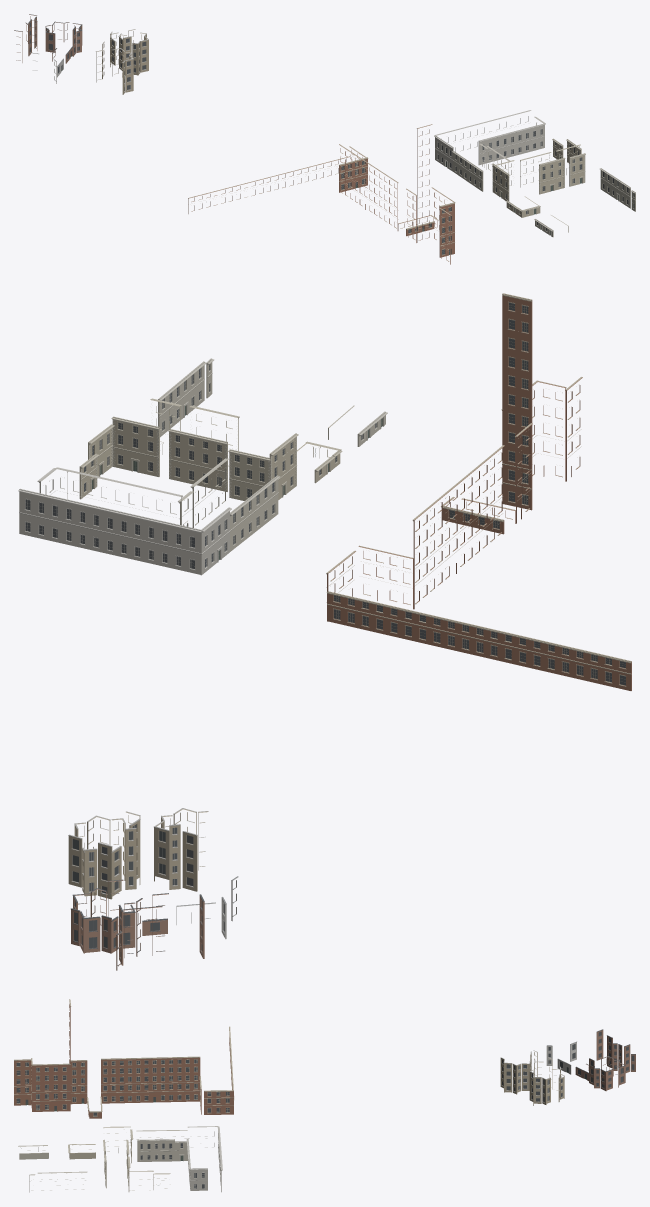
3 renders of one model, top to bottom at view 1: azimuth 30°, elevation 25°; view 2: azimuth 150°, elevation 25°; view 3: azimuth 270°, elevation 25°, orthographic. The views are drawn at different scales.
Parts seen in each view (by area): view 1: f:relation/1950099, f:way/139285982, f:way/98523436, f:way/780057385, f:way/87201084, f:way/98523431, f:way/780389017, f:way/780057383, f:way/780388997; view 2: f:relation/1950099, f:way/139285982, f:way/98523436, f:way/780057385, f:way/780389017, f:way/780057383, f:way/87201084, f:way/98523431, f:way/780388997; view 3: f:relation/1950099, f:way/87201084, f:way/780057383, f:way/780388997, f:way/780389017, f:way/780057385, f:way/139285982, f:way/98523436, f:way/780389013.
Part boxes in pixels (box(x1,y1,x2,y2)): f:relation/1950099: box(188, 124, 455, 264); f:way/139285982: box(434, 110, 545, 171); f:way/98523436: box(491, 138, 585, 201); f:way/780057385: box(110, 29, 148, 75); f:way/87201084: box(452, 143, 509, 191); f:way/98523431: box(599, 168, 635, 211); f:way/780389017: box(45, 21, 82, 63); f:way/780057383: box(96, 41, 133, 94); f:way/780388997: box(14, 14, 37, 62); f:relation/1950099: box(326, 293, 631, 690); f:way/139285982: box(18, 467, 231, 575); f:way/98523436: box(79, 398, 298, 500); f:way/780057385: box(68, 811, 140, 899); f:way/780389017: box(71, 879, 167, 953); f:way/780057383: box(154, 808, 208, 891); f:way/87201084: box(178, 458, 280, 551); f:way/98523431: box(158, 358, 214, 437); f:way/780388997: box(116, 893, 204, 970); f:relation/1950099: box(14, 999, 234, 1118); f:way/87201084: box(136, 1130, 187, 1161); f:way/780057383: box(500, 1050, 537, 1094); f:way/780388997: box(596, 1029, 635, 1072); f:way/780389017: box(575, 1056, 625, 1091); f:way/780057385: box(529, 1057, 564, 1105); f:way/139285982: box(186, 1126, 222, 1192); f:way/98523436: box(103, 1126, 170, 1191); f:way/780389013: box(546, 1041, 576, 1074).
Bounding box in the file's own units: 134 × 47.22 × 233.
